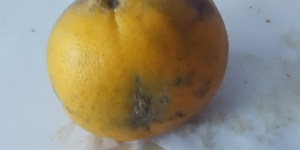BAD: (42, 1, 229, 138)
